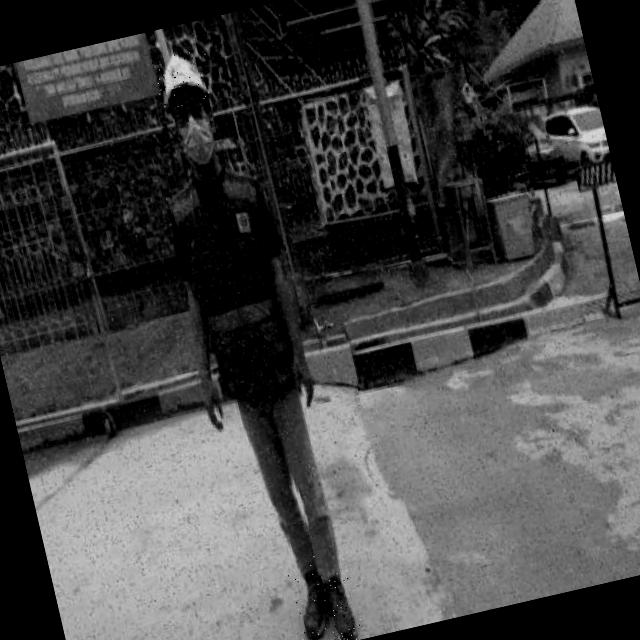boots: (285, 555, 338, 640), (316, 567, 365, 640)
helmet: (150, 46, 216, 111)
no-gloves: (170, 310, 253, 442), (261, 290, 346, 400)
vest: (158, 170, 320, 422)
